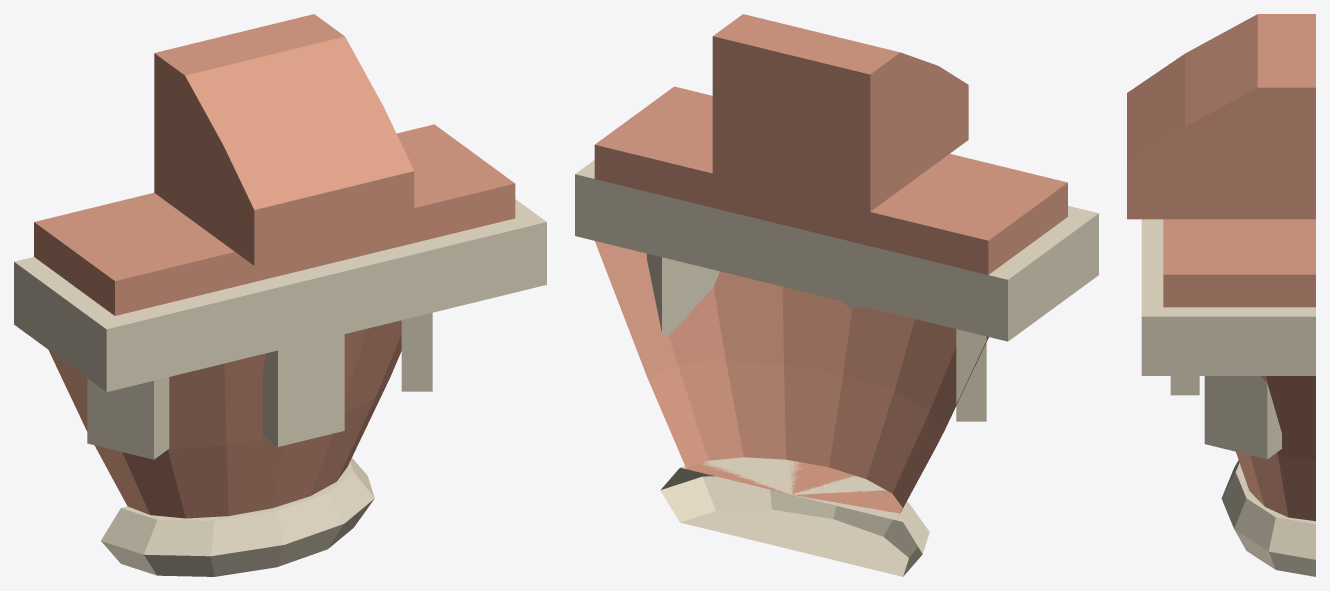
Rendered from kit_pilaster_cap.glb.
The picture shows the model from 3 angles, left to right: view 1: azimuth 30°, elevation 25°; view 2: azimuth 150°, elevation 25°; view 3: azimuth 270°, elevation 25°; orthographic projection. The views are drawn at different scales.
Parts seen in each view (by area): view 1: kit_pilaster_cap; view 2: kit_pilaster_cap; view 3: kit_pilaster_cap.
Boxes of the visible parts, x1,y1,x2,y2 form: kit_pilaster_cap: [14, 14, 546, 576]; kit_pilaster_cap: [575, 14, 1098, 576]; kit_pilaster_cap: [1127, 14, 1315, 576].
Size of the model in its own units: 0.66 by 0.72 by 0.26.
